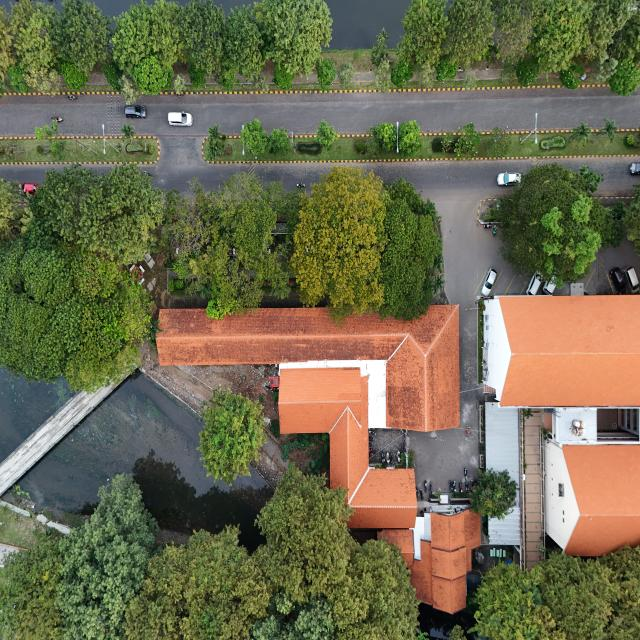Tree: (199, 386, 266, 484)
